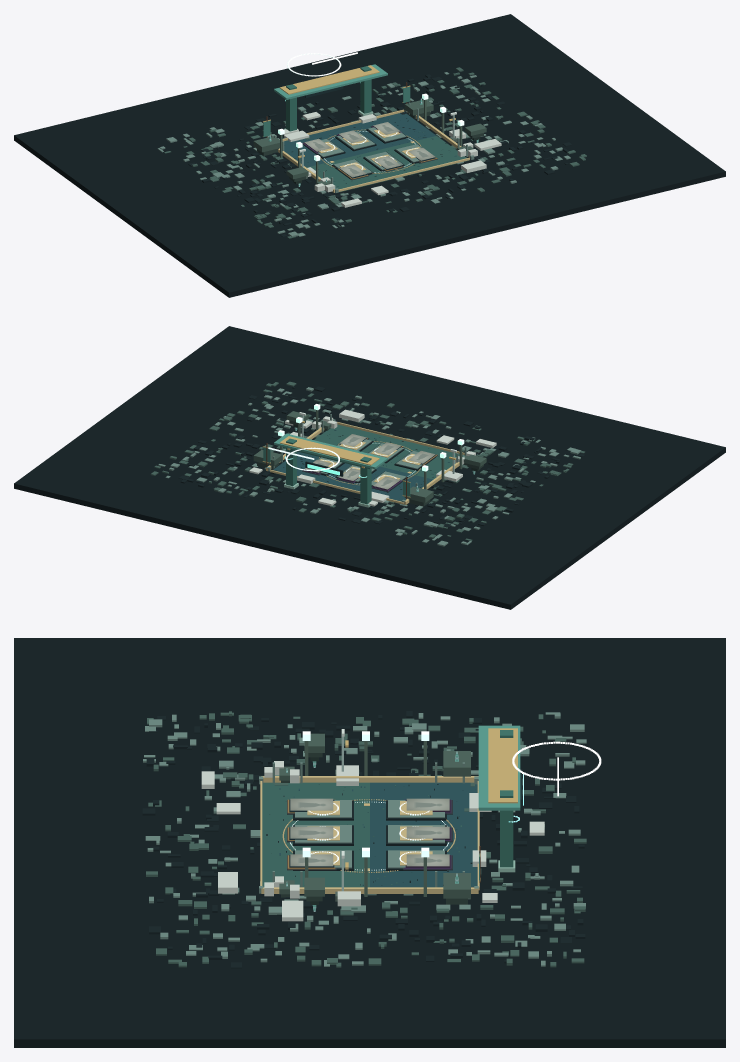
The model's file is xianxia.glb.
3 renders of one model, top to bottom at view 1: azimuth 30°, elevation 25°; view 2: azimuth 150°, elevation 25°; view 3: azimuth 270°, elevation 25°, orthographic. The views are drawn at different scales.
Parts seen in each view (by area): view 1: Bedrock, Outer_Rubble, Friendly_Floor, Enemy_Floor, Six_Grounded_Foundations, Cloud_Banks, Immortal_Roof, Floating_Islands, Arena_Curb, Immortal_Gate; view 2: Bedrock, Outer_Rubble, Friendly_Floor, Enemy_Floor, Cloud_Banks, Immortal_Roof, Floating_Islands, Six_Grounded_Foundations, Immortal_Gate, Arena_Curb; view 3: Bedrock, Outer_Rubble, Enemy_Floor, Friendly_Floor, Six_Grounded_Foundations, Cloud_Banks, Immortal_Roof, Floating_Islands, Arena_Curb, Immortal_Gate, Rune_Lanterns.
Boxes of the visible parts, x1=… form: Bedrock: x1=14, y1=14, x2=725, y2=297; Outer_Rubble: x1=157, y1=67, x2=586, y2=238; Friendly_Floor: x1=307, y1=136, x2=468, y2=192; Enemy_Floor: x1=284, y1=112, x2=436, y2=167; Six_Grounded_Foundations: x1=304, y1=127, x2=422, y2=179; Cloud_Banks: x1=284, y1=112, x2=501, y2=207; Immortal_Roof: x1=274, y1=64, x2=387, y2=99; Floating_Islands: x1=253, y1=99, x2=486, y2=185; Arena_Curb: x1=278, y1=109, x2=469, y2=192; Immortal_Gate: x1=283, y1=66, x2=373, y2=131; Bedrock: x1=14, y1=326, x2=725, y2=609; Outer_Rubble: x1=150, y1=381, x2=584, y2=546; Friendly_Floor: x1=314, y1=424, x2=459, y2=479; Enemy_Floor: x1=273, y1=452, x2=432, y2=504; Cloud_Banks: x1=249, y1=409, x2=496, y2=506; Immortal_Roof: x1=274, y1=433, x2=387, y2=469; Floating_Islands: x1=253, y1=411, x2=486, y2=506; Six_Grounded_Foundations: x1=317, y1=439, x2=435, y2=491; Immortal_Gate: x1=283, y1=438, x2=371, y2=507; Arena_Curb: x1=266, y1=422, x2=464, y2=504; Bedrock: x1=14, y1=638, x2=725, y2=1047; Outer_Rubble: x1=142, y1=711, x2=586, y2=968; Enemy_Floor: x1=370, y1=782, x2=477, y2=887; Friendly_Floor: x1=262, y1=782, x2=369, y2=887; Six_Grounded_Foundations: x1=293, y1=800, x2=446, y2=870; Cloud_Banks: x1=201, y1=761, x2=544, y2=921; Immortal_Roof: x1=478, y1=725, x2=520, y2=810; Floating_Islands: x1=279, y1=733, x2=470, y2=904; Arena_Curb: x1=260, y1=776, x2=479, y2=893; Immortal_Gate: x1=498, y1=730, x2=515, y2=872; Rune_Lanterns: x1=305, y1=741, x2=426, y2=896.
Bounding box in the file's own units: 48 × 4.97 × 36.
33 materials, 1 textured.
